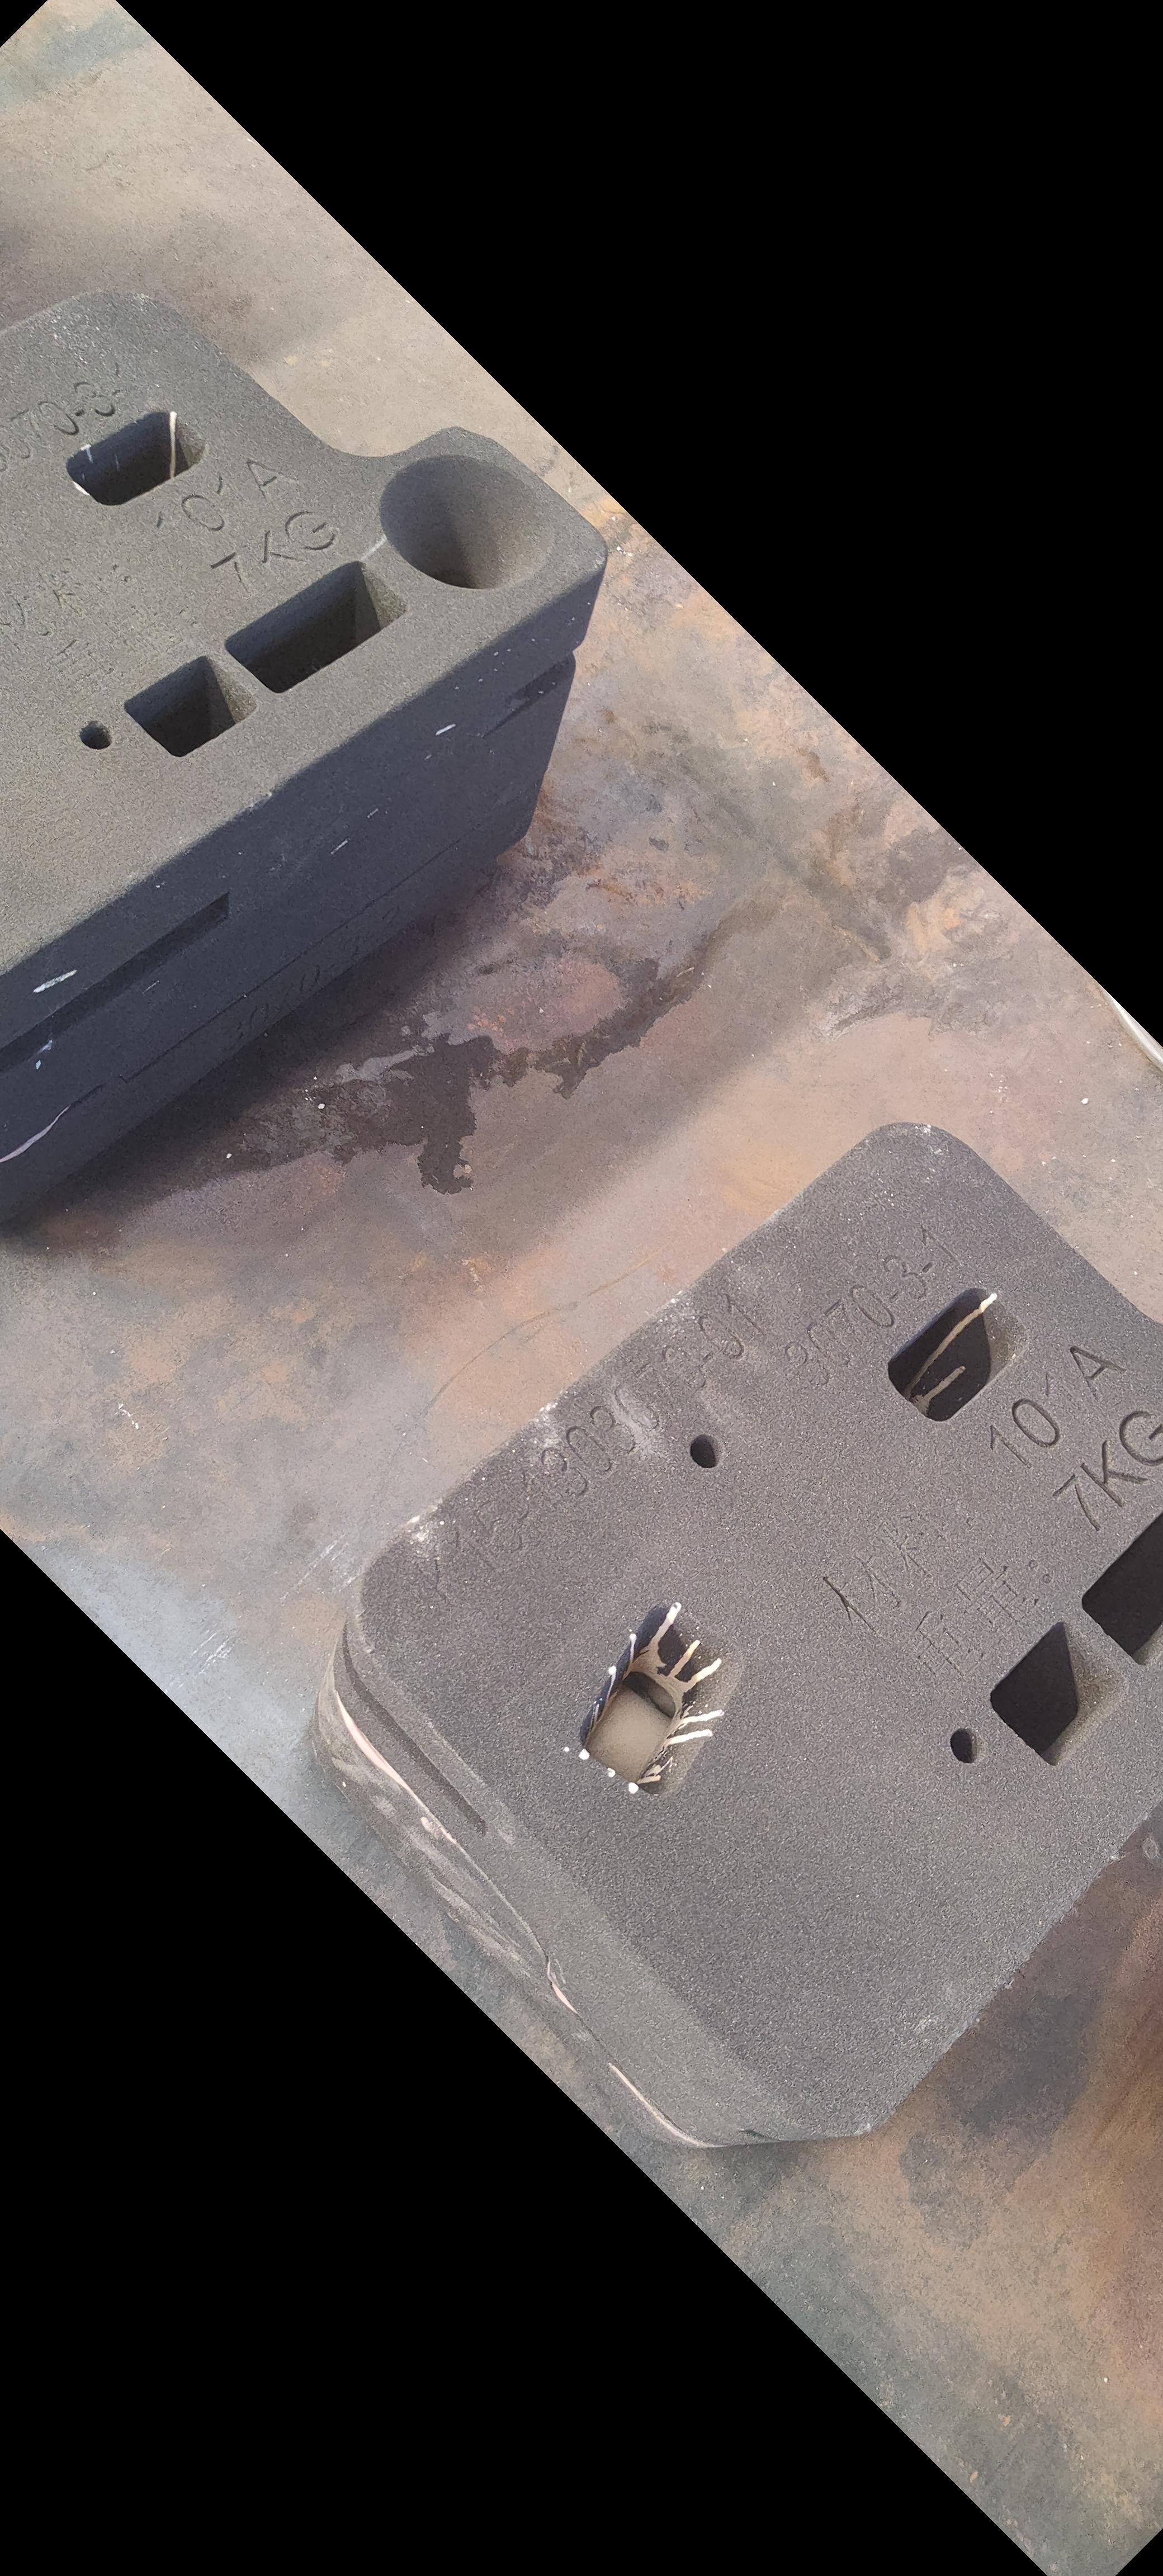pouring hole: (378, 452, 554, 593)
